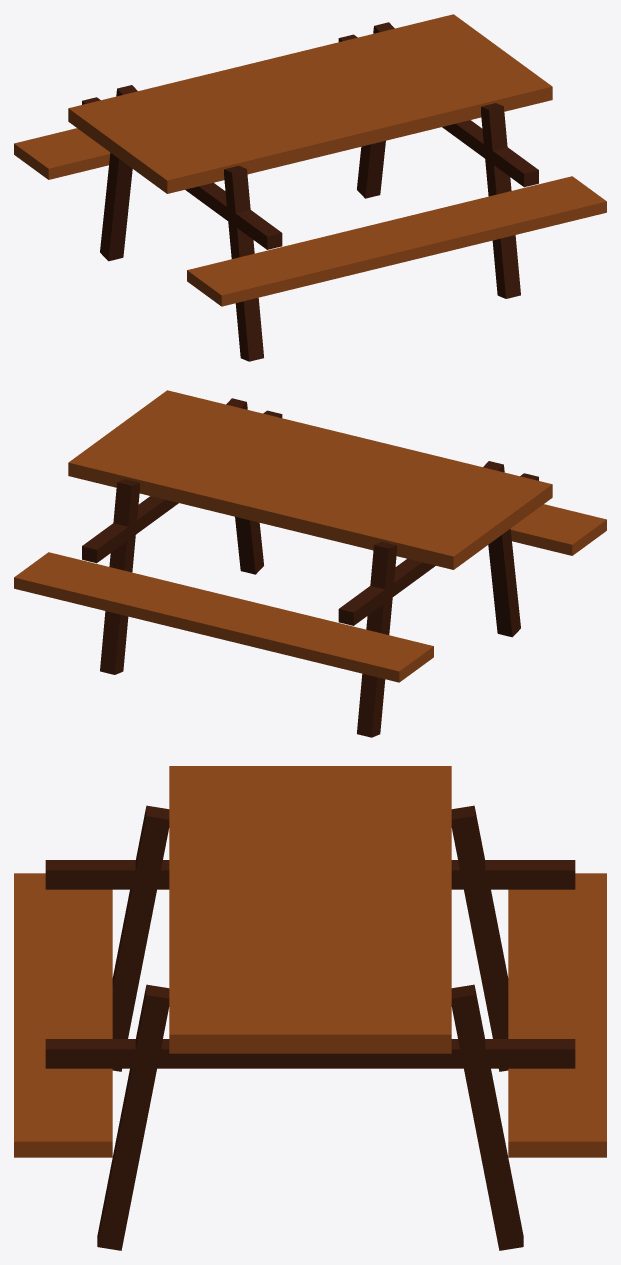
The model's file is picnic_table.obj.
3 views of the same model, one above another, from view 1: azimuth 30°, elevation 25°; view 2: azimuth 150°, elevation 25°; view 3: azimuth 270°, elevation 25° (orthographic). The views are drawn at different scales.
Visible parts, largest first — view 1: picnic_table; view 2: picnic_table; view 3: picnic_table.
Boxes of the visible parts, x1,y1,x2,y2 form: picnic_table: [14, 14, 606, 361]; picnic_table: [14, 390, 606, 737]; picnic_table: [14, 766, 606, 1250].
Size of the model in its own units: 1.8 by 0.8 by 1.68.
